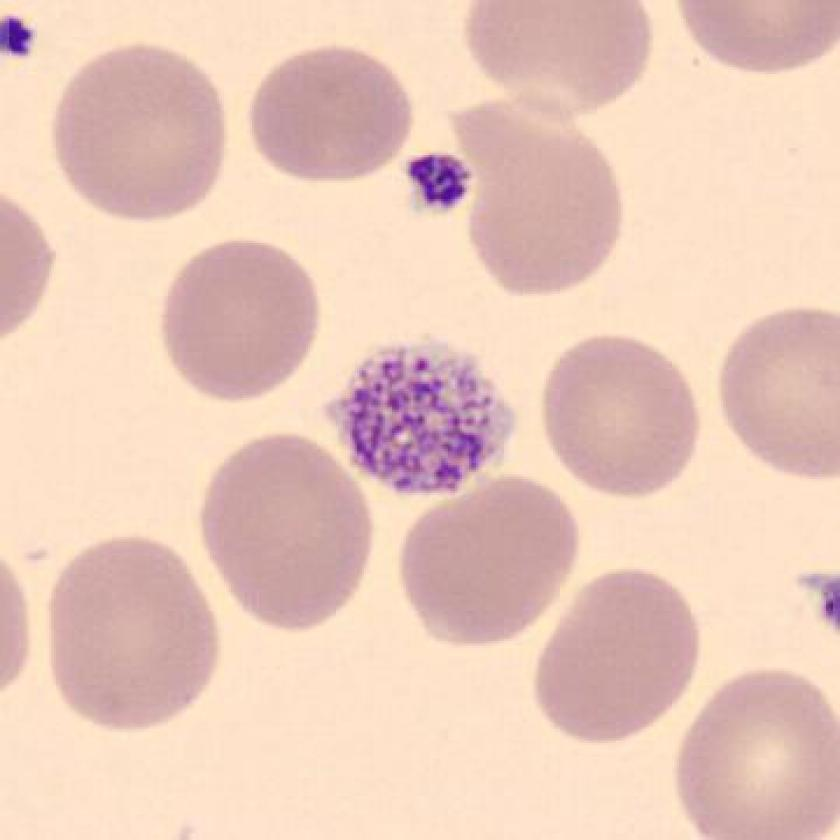platelets: (325, 339, 524, 505), (398, 147, 472, 221), (1, 11, 43, 64)
